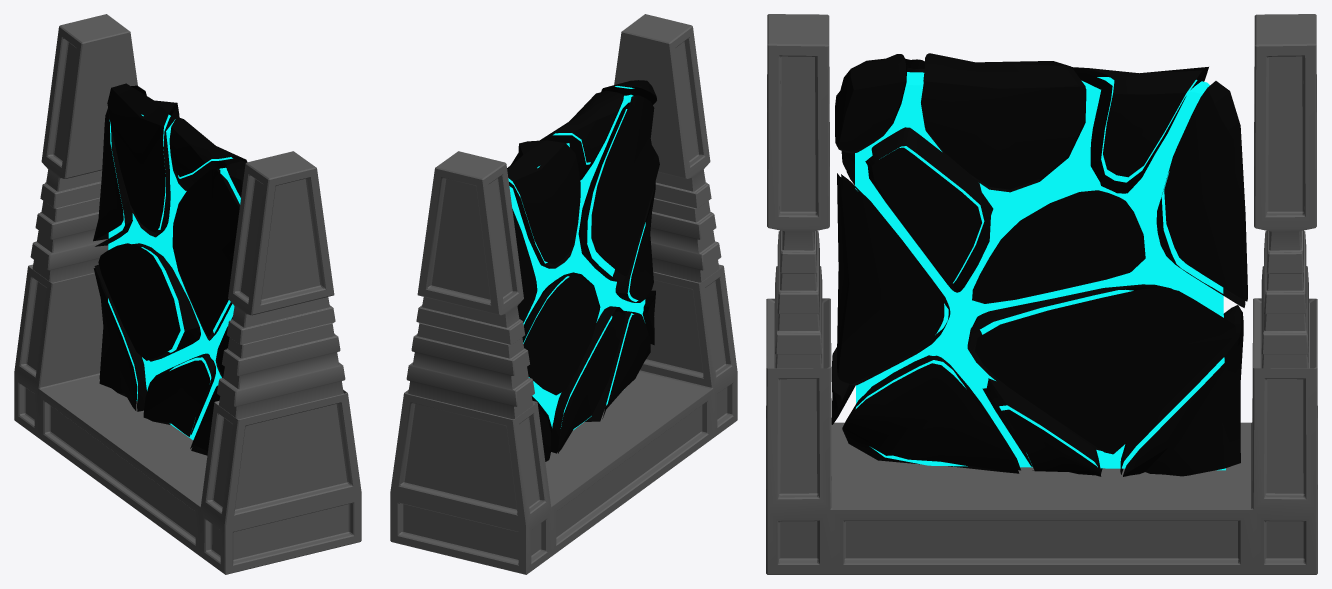
The model's file is Wall1_HP.fbx.
3 renders of one model, left to right at view 1: azimuth 30°, elevation 25°; view 2: azimuth 150°, elevation 25°; view 3: azimuth 270°, elevation 25°, orthographic. The views are drawn at different scales.
Visible parts, largest first — view 1: Wall1_high, Stone1_high; view 2: Wall1_high, Stone1_high; view 3: Stone1_high, Wall1_high.
Part boxes in pixels (x1,y1,x2,y2): Wall1_high: (14, 14, 361, 574); Stone1_high: (93, 83, 247, 455); Wall1_high: (390, 14, 737, 574); Stone1_high: (507, 80, 659, 461); Stone1_high: (831, 53, 1247, 476); Wall1_high: (766, 14, 1317, 574).
Size of the model in its own units: 74.2 by 199 by 198.
